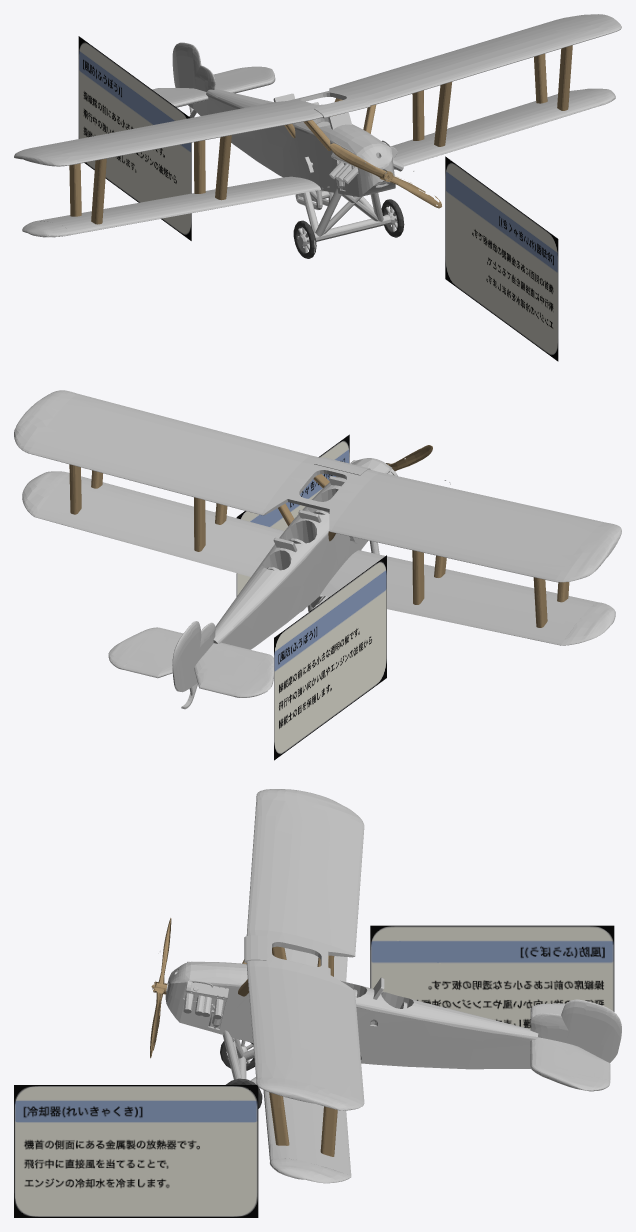
The picture shows the model from 3 angles, top to bottom: view 1: azimuth 30°, elevation 25°; view 2: azimuth 150°, elevation 25°; view 3: azimuth 270°, elevation 25°; orthographic projection. The views are drawn at different scales.
Visible parts, largest first — view 1: hokkai1gou_5_002, 翼間支柱, 複葉機, hokkai1gou_5_004, hokkai1gou_5_005, hokkai1gou_5_003; view 2: hokkai1gou_5_002, 複葉機, hokkai1gou_5_004, 翼間支柱, hokkai1gou_5_001; view 3: hokkai1gou_5_002, 翼間支柱, 複葉機, hokkai1gou_5_004, hokkai1gou_5_005.
Part boxes in pixels (bbox=[...]): hokkai1gou_5_002: bbox=[14, 14, 621, 253]; 翼間支柱: bbox=[445, 156, 558, 361]; 複葉機: bbox=[78, 36, 191, 240]; hokkai1gou_5_004: bbox=[69, 45, 572, 224]; hokkai1gou_5_005: bbox=[330, 143, 441, 208]; hokkai1gou_5_003: bbox=[293, 199, 404, 258]; hokkai1gou_5_002: bbox=[14, 390, 621, 709]; 複葉機: bbox=[274, 555, 386, 760]; hokkai1gou_5_004: bbox=[69, 464, 569, 627]; 翼間支柱: bbox=[236, 434, 349, 596]; hokkai1gou_5_001: bbox=[273, 476, 346, 552]; hokkai1gou_5_002: bbox=[152, 789, 621, 1183]; 翼間支柱: bbox=[14, 1085, 258, 1217]; 複葉機: bbox=[370, 925, 614, 1028]; hokkai1gou_5_004: bbox=[238, 946, 337, 1156]; hokkai1gou_5_005: bbox=[150, 918, 171, 1058].
Size of the model in its own units: 29.78 by 10.17 by 24.89.
Materials: 6 (2 with a texture image).
